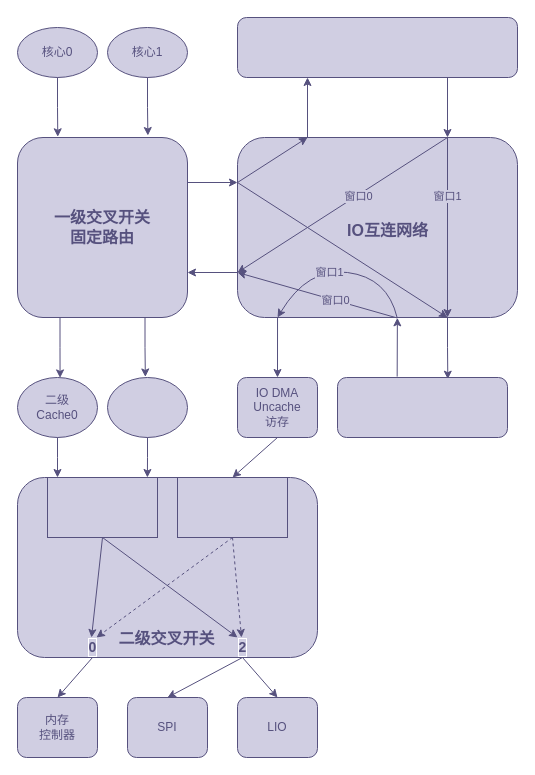
Some shapes in this 535 by 775 pixel diagram are drawn without their labels. The shapes that lost their labels are listed below. From the top down, each one's centre as x and y in pixels, then its label:
At pixel 377 47: "PCIe0/1".
At pixel 147 407: "二级 Cache1".
At pixel 422 407: "PCI总线".
At pixel 102 507: "Cache地址路由".
At pixel 232 507: "Uncache地址路由".
